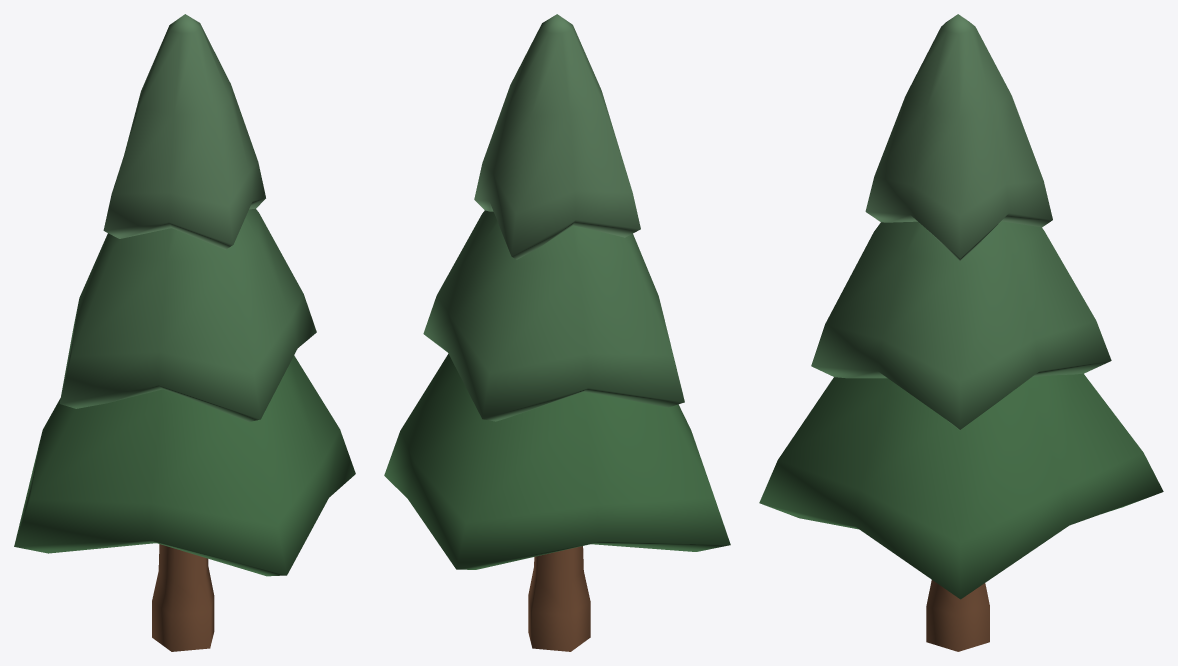
File: pine_far.glb
The picture shows the model from 3 angles, left to right: view 1: azimuth 30°, elevation 25°; view 2: azimuth 150°, elevation 25°; view 3: azimuth 270°, elevation 25°; orthographic projection.
Visible parts, largest first — view 1: body; view 2: body; view 3: body.
Boxes of the visible parts, x1,y1,x2,y2 form: body: (14, 14, 355, 651); body: (384, 14, 730, 651); body: (759, 14, 1163, 651).
Size of the model in its own units: 2.97 by 5.15 by 3.03.
